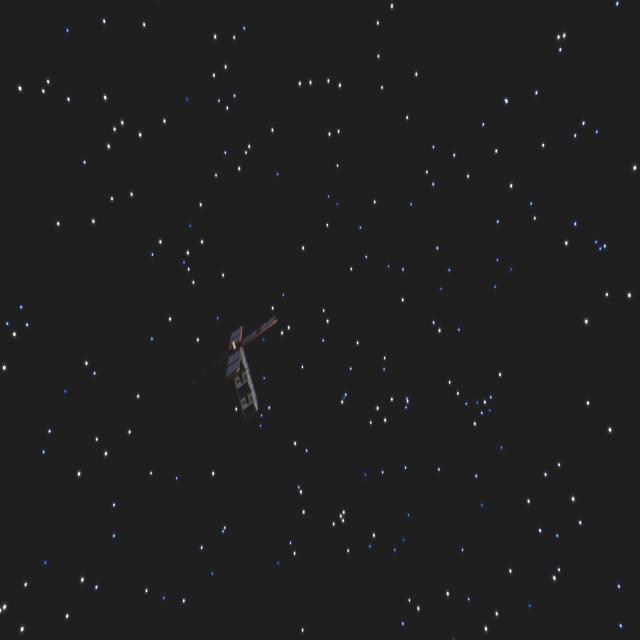satellite: (216, 310, 286, 423)
